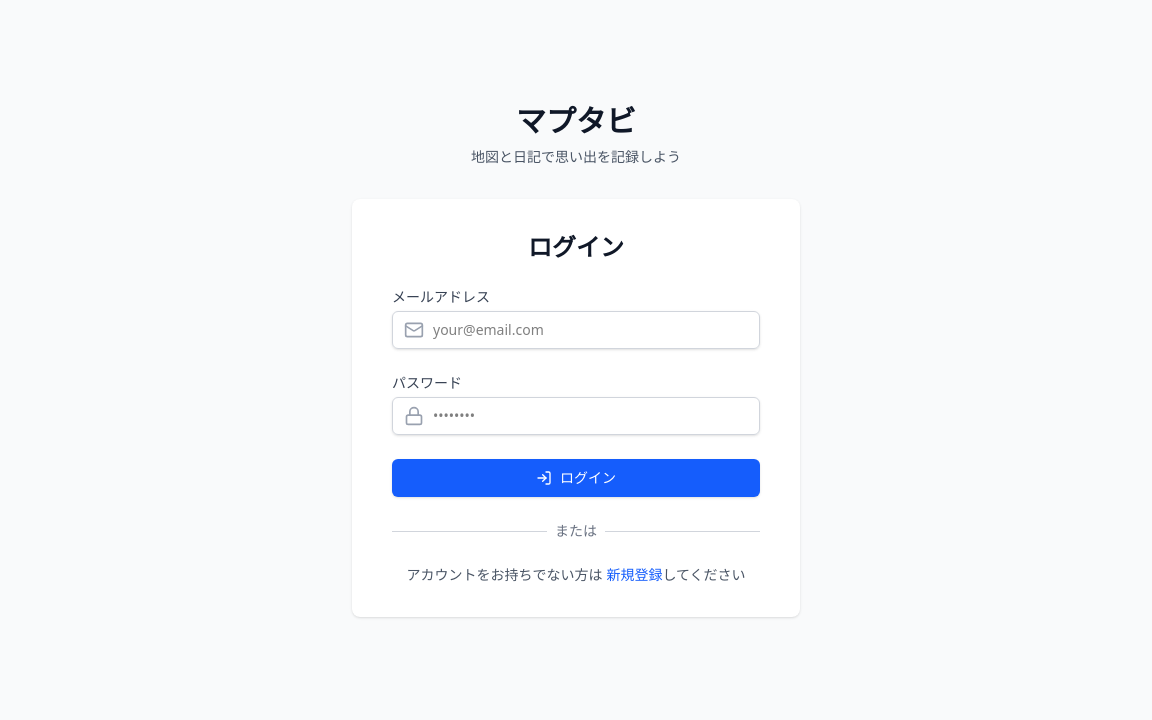
Test: ログイン機能 › ダミーユーザーでログイン
Type "test@example.com" into the field labelled "メールアドレス".
click(576, 330); type("test@example.com")  # box [392,311,760,349]
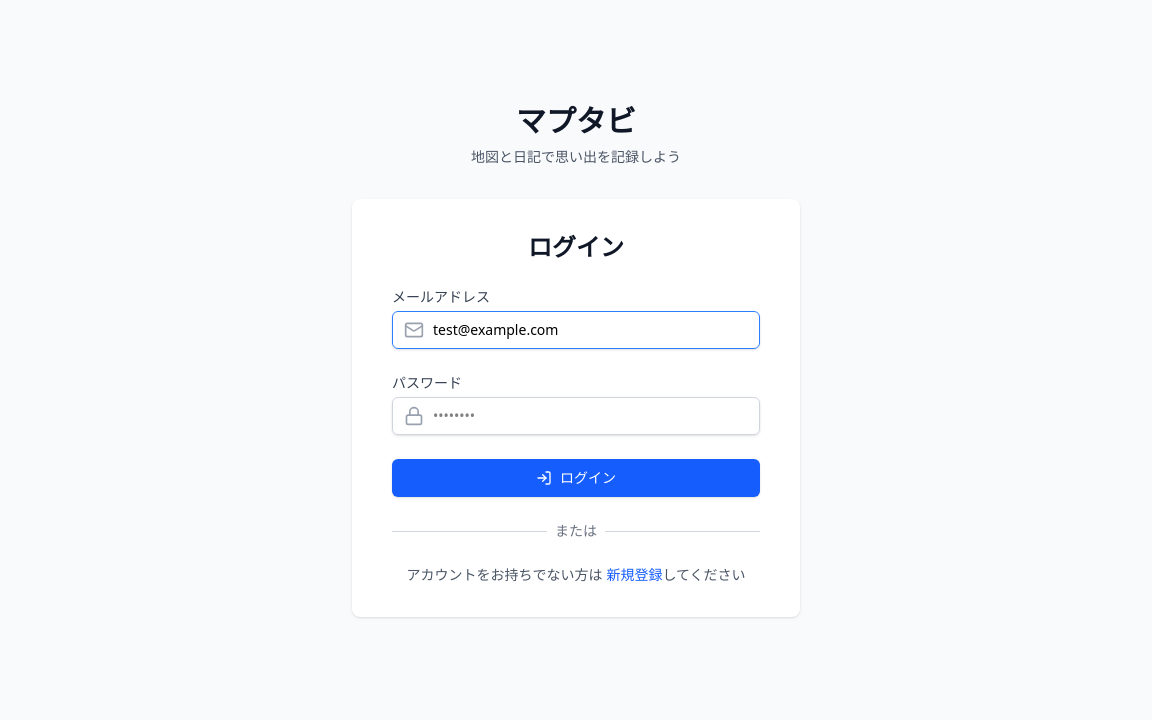
Type "password123" into the password field labelled "パスワード".
click(576, 416); type("password123")  # box [392,397,760,435]
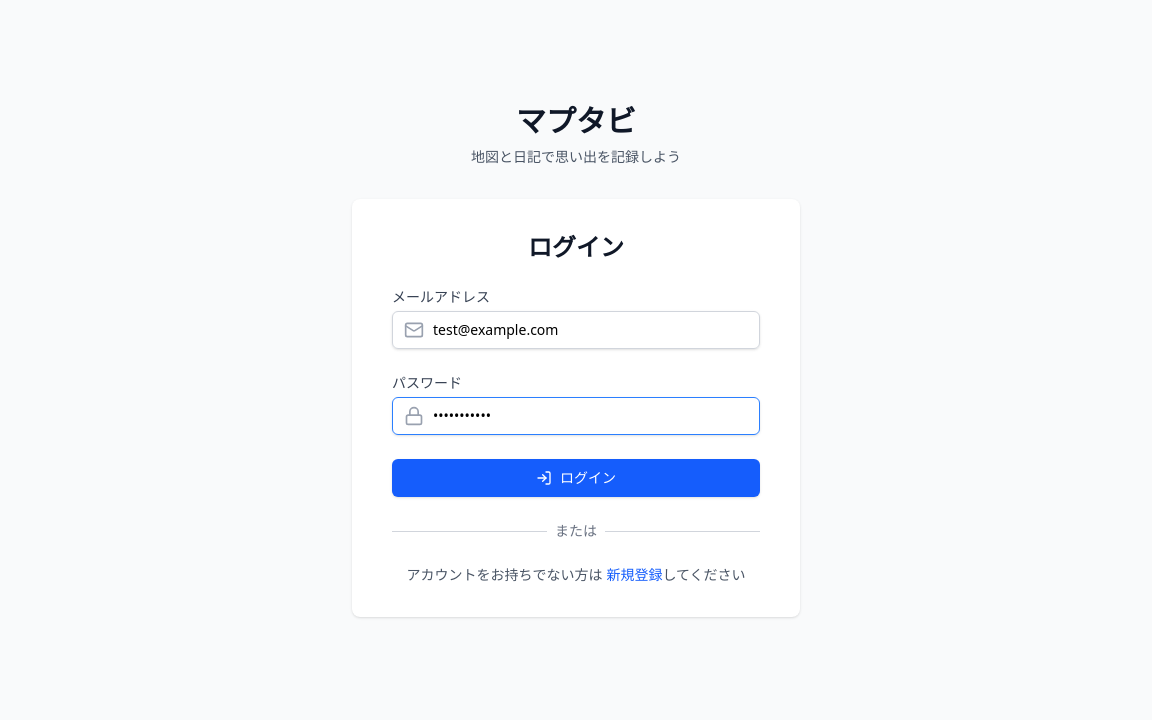
Click the button "ログイン".
click(576, 478)  # box [392,459,760,497]
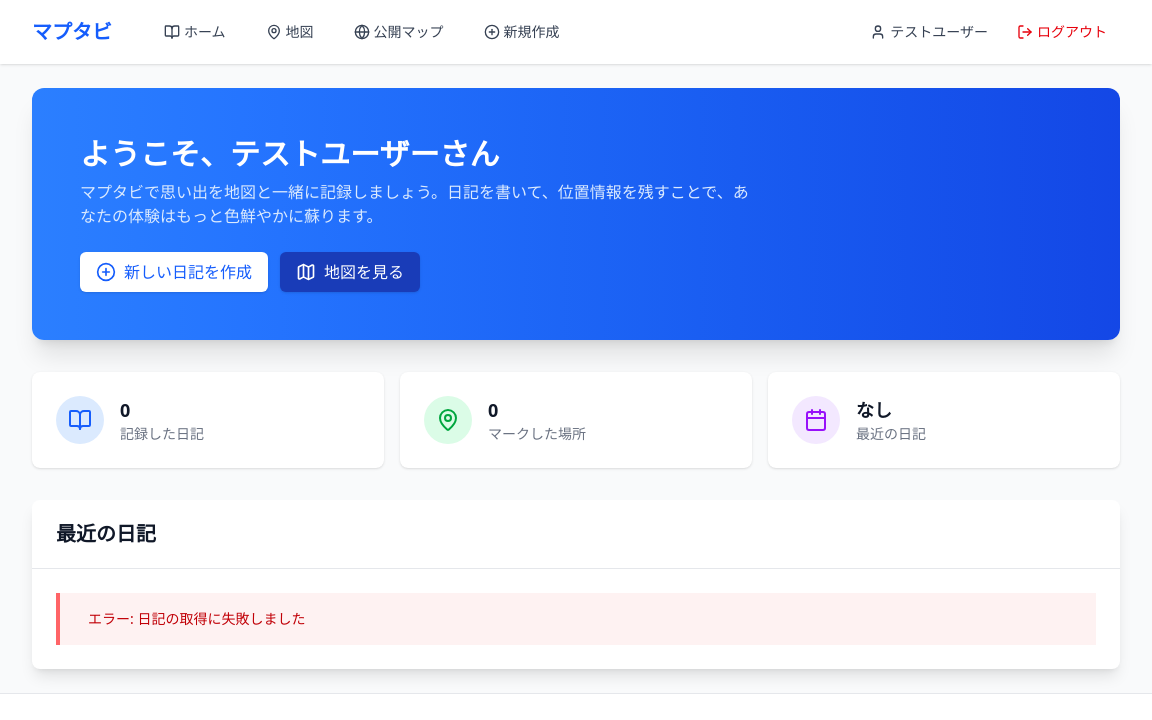
Expected: the heading "ようこそ" is shown, [80,133,230,174]
